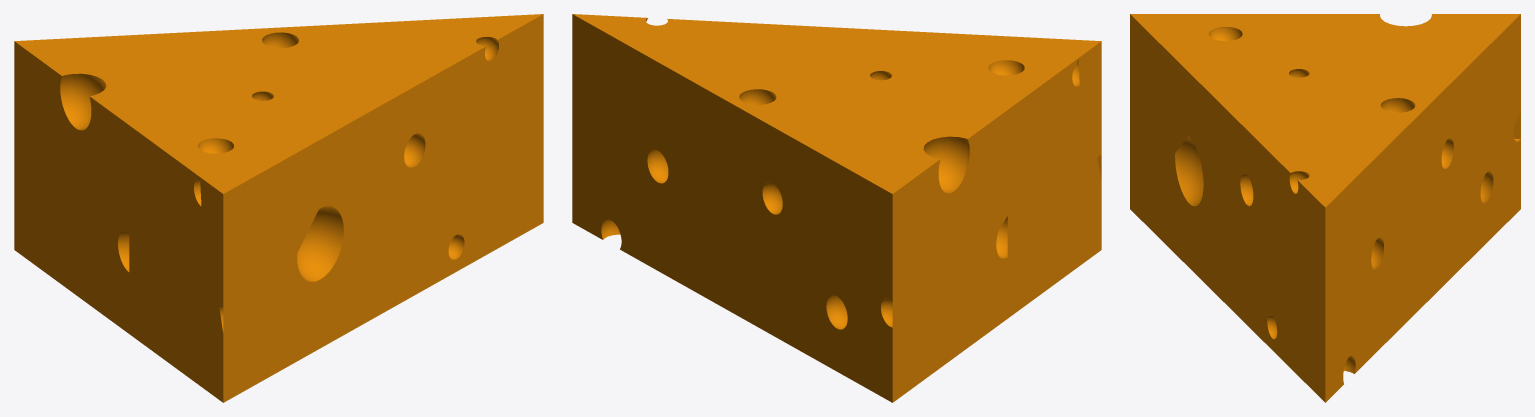
File: CheeseWholeFBX.fbx
3 views of the same model, side by side, from view 1: azimuth 30°, elevation 25°; view 2: azimuth 150°, elevation 25°; view 3: azimuth 270°, elevation 25° (orthographic). The views are drawn at different scales.
Parts seen in each view (by area): view 1: pPrism22; view 2: pPrism22; view 3: pPrism22.
Part boxes in pixels (left/top/right/bottom): pPrism22: left=14, top=14, right=543, bottom=402; pPrism22: left=572, top=14, right=1101, bottom=402; pPrism22: left=1130, top=14, right=1520, bottom=402.
Size of the model in its own units: 0.866 by 0.4067 by 0.7381.
